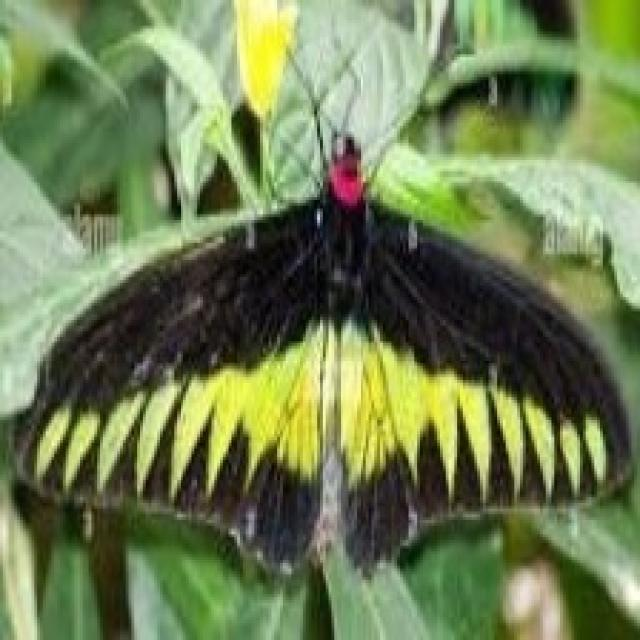butterfly: (6, 31, 634, 586)
